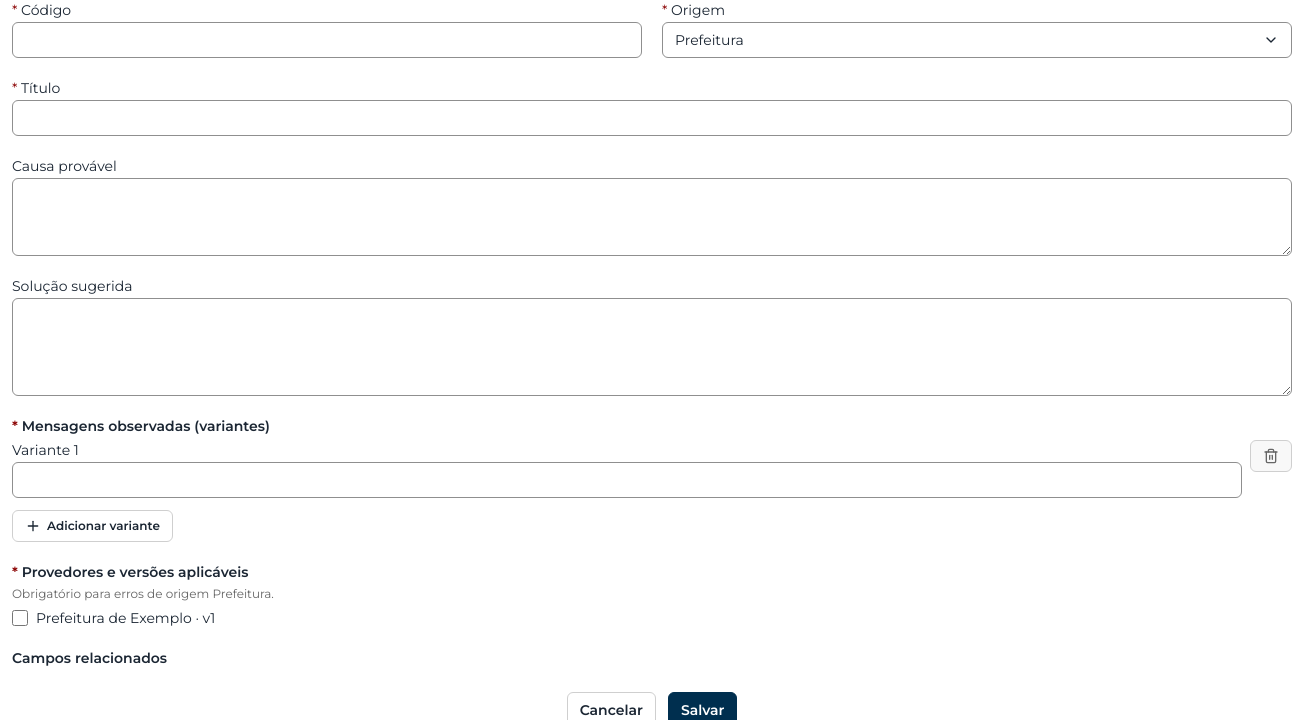
Test case: ErroForm › origem="Prefeitura": versoesProvedorIds é obrigatório (mínimo 1)
Later steps or results of the test are not shown.
In the field labelled "* Código": (327, 40) 12,22 -> 642,58, type "E0117"
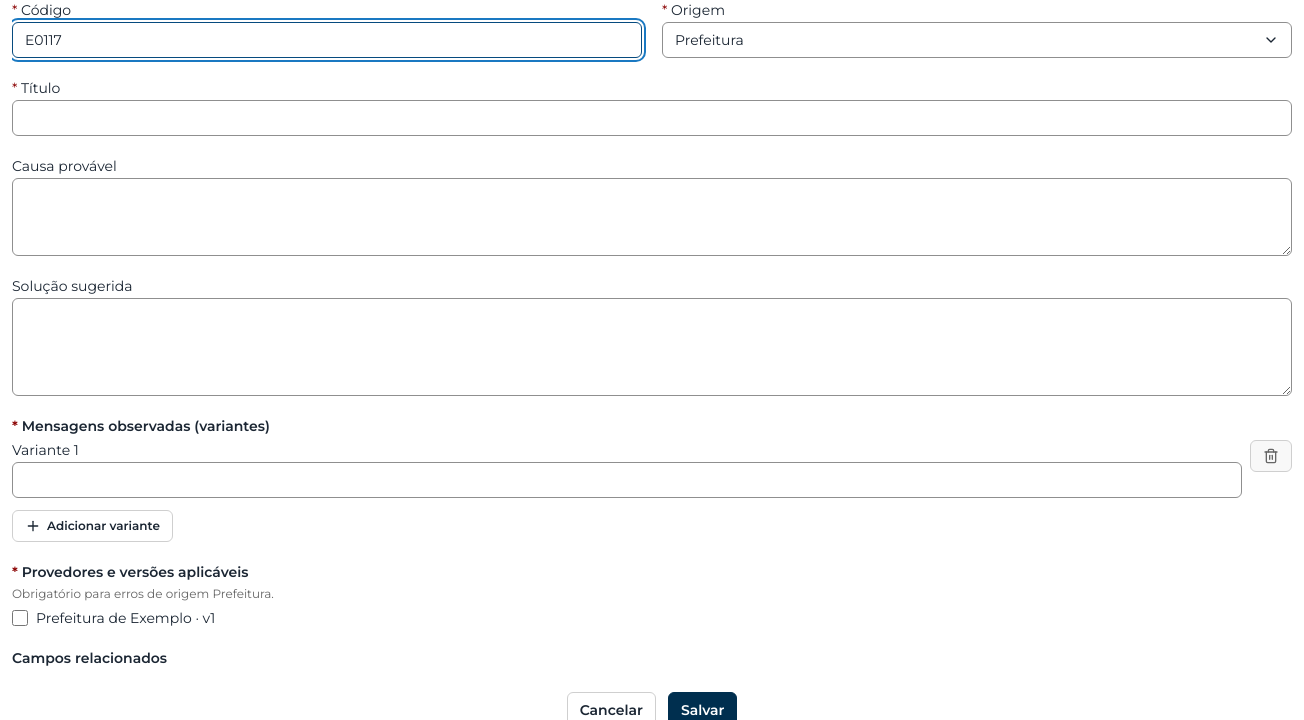
In the field labelled "* Título": (652, 118) 12,100 -> 1292,136, type "CNPJ inválido"
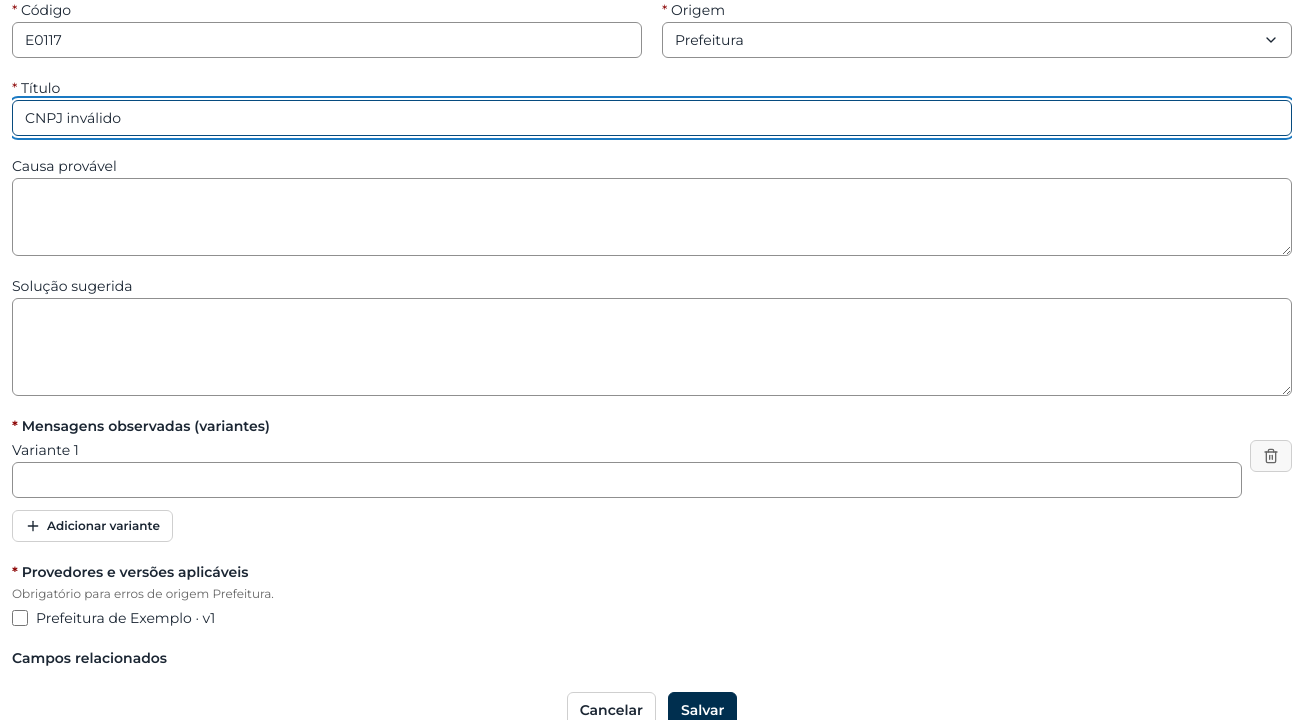
In the field labelled "Variante 1": (627, 480) 12,462 -> 1242,498, type "O CNPJ informado não é válido."
(page scrolled)
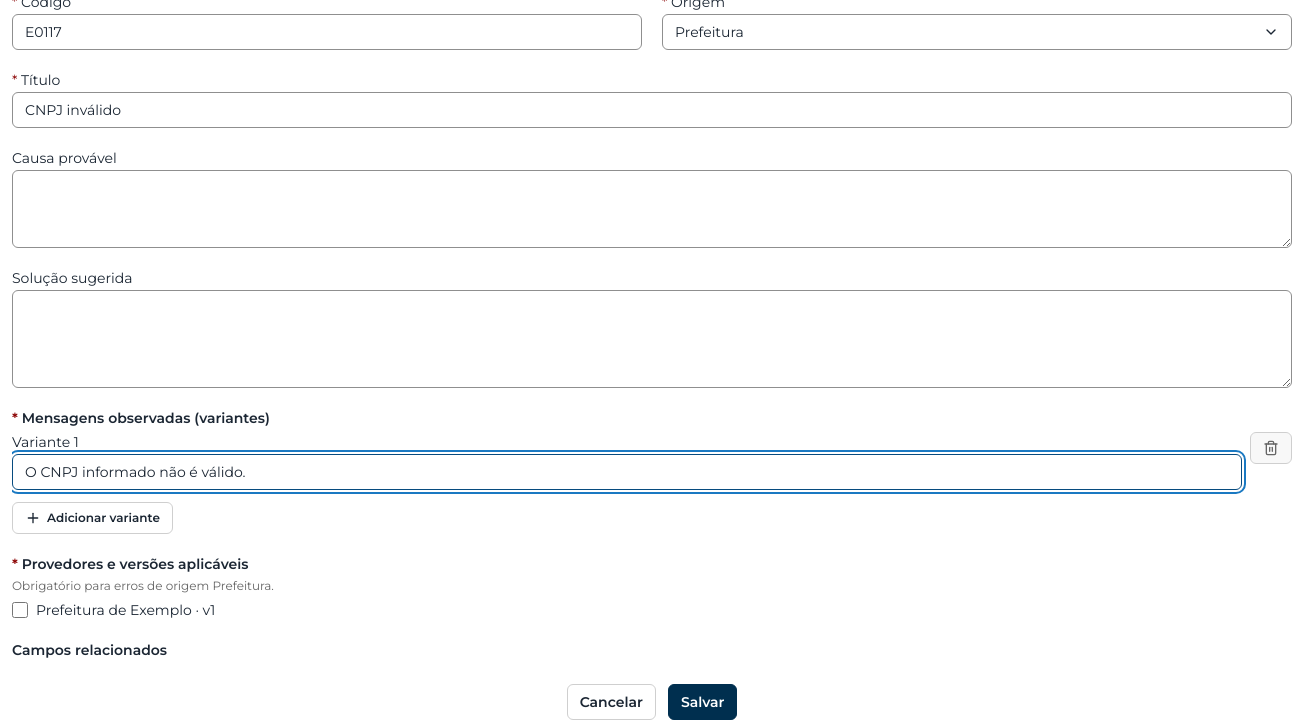
Click the button "Salvar": click(703, 702) 668,684 -> 737,719
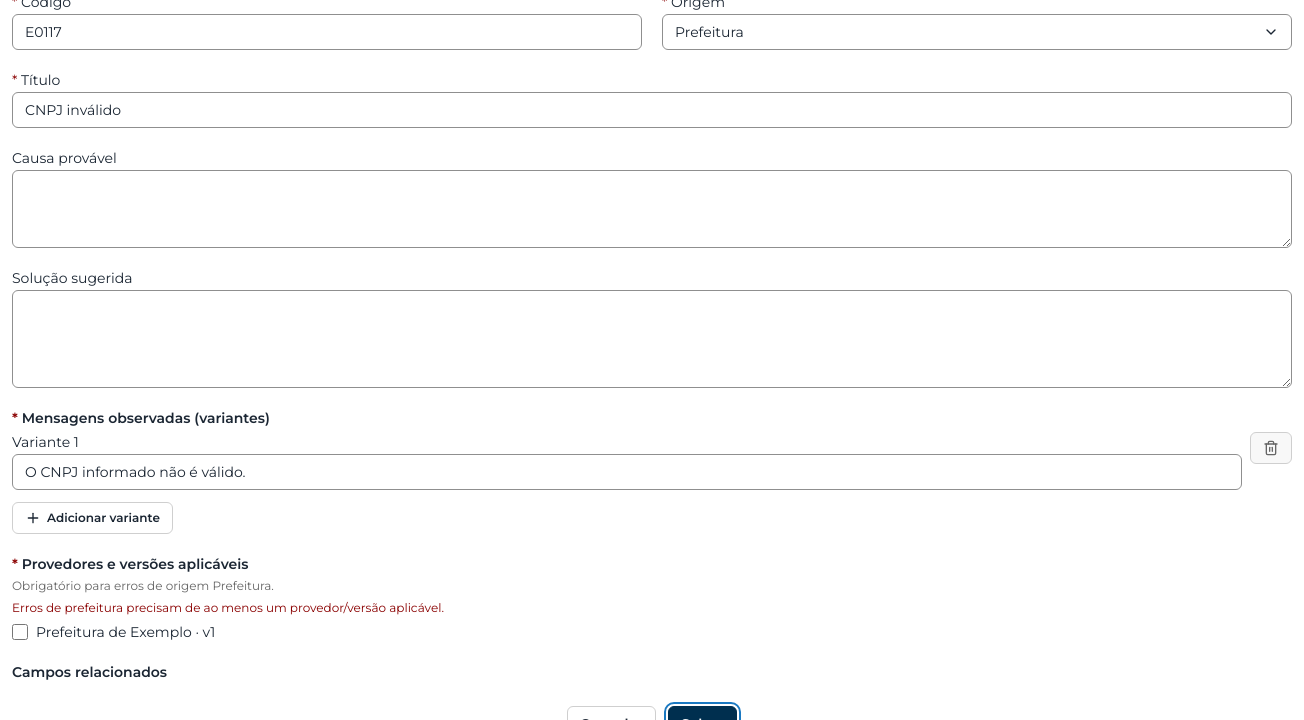
Result: the text "Erros de prefeitura precisam de ao menos um provedor/versão aplicável." is shown at 12,600 -> 444,615
